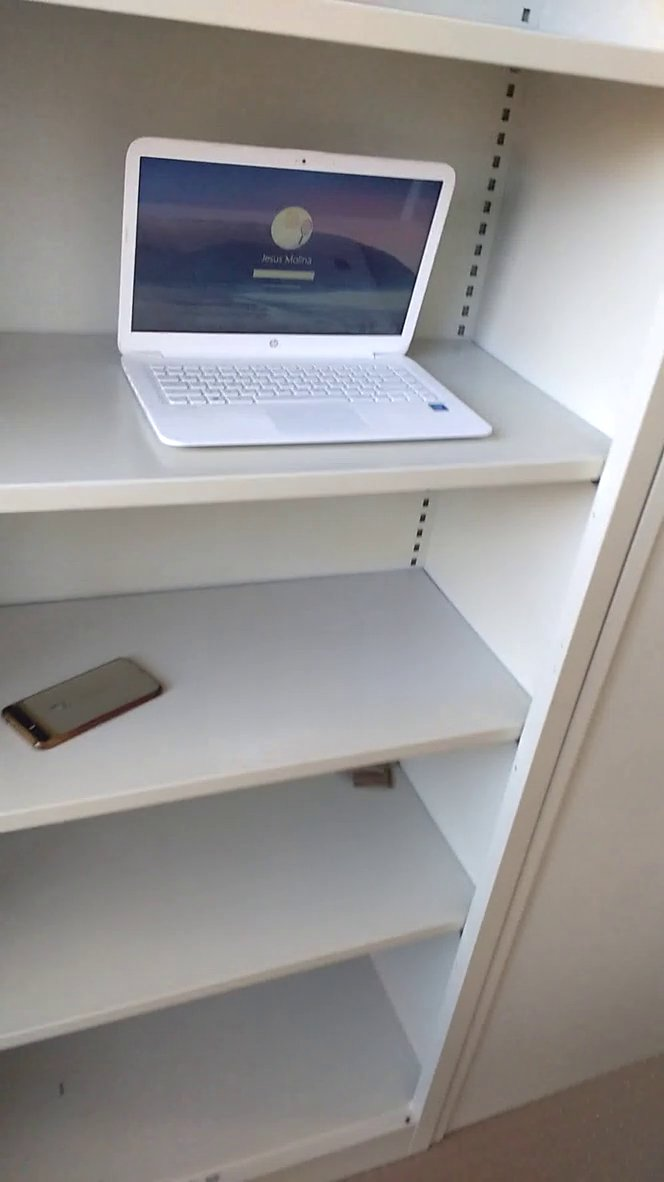laptop: (109, 125, 510, 475)
phone: (1, 651, 173, 761)
